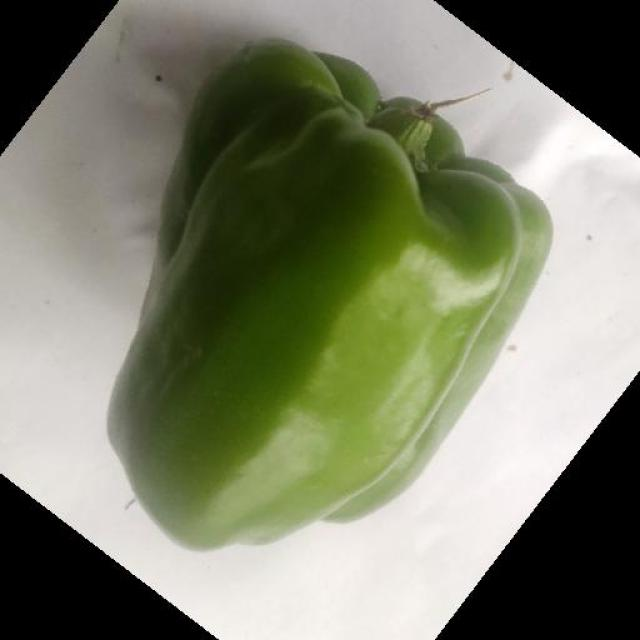Fresh_Capsicum: (203, 93, 432, 495)
